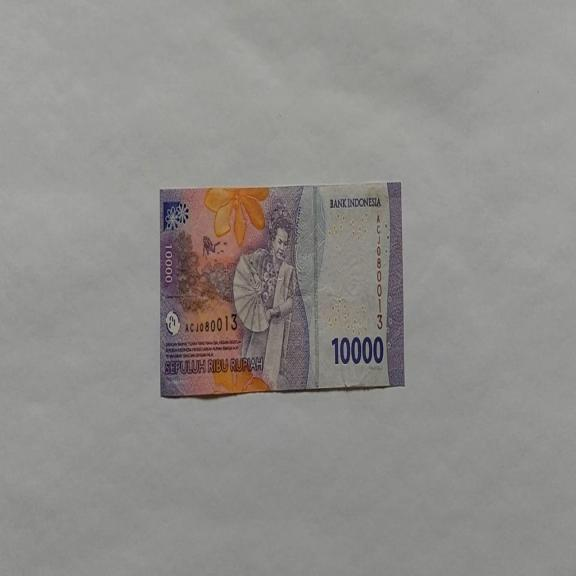Kertas: (159, 180, 404, 398)
